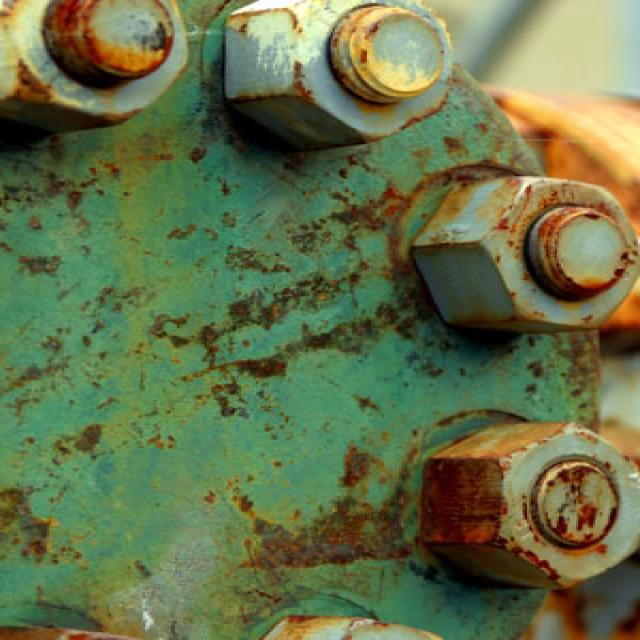bolt nut: (412, 166, 634, 336), (414, 421, 633, 590), (218, 5, 454, 150)
